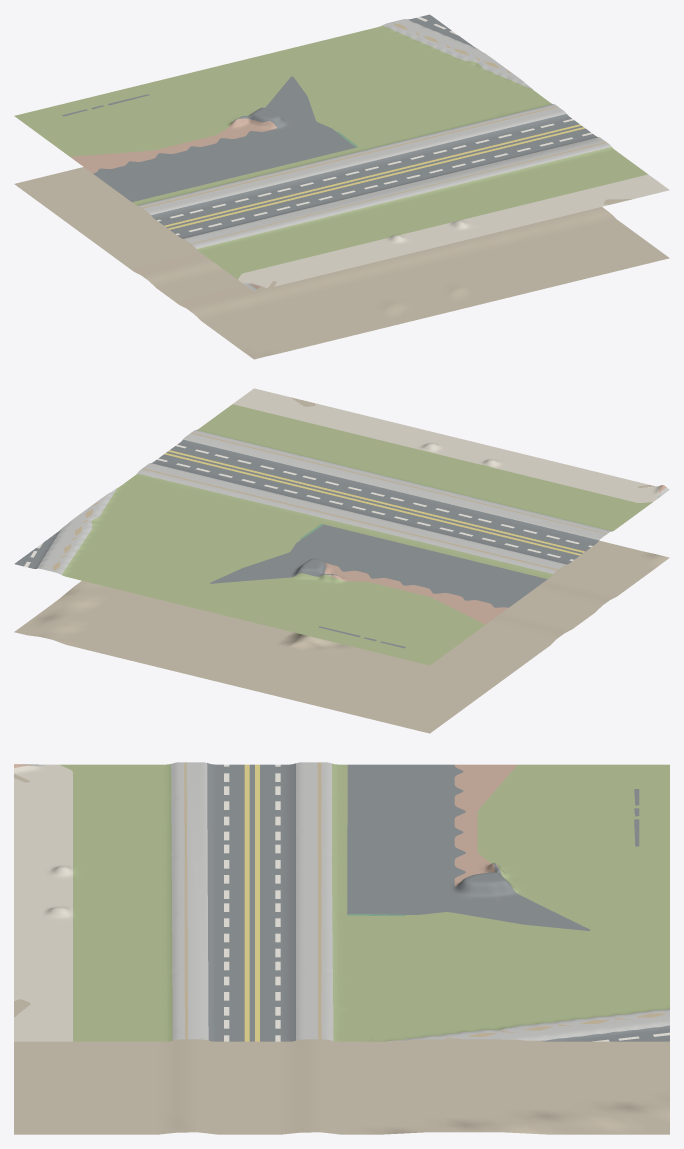
The picture shows the model from 3 angles, top to bottom: view 1: azimuth 30°, elevation 25°; view 2: azimuth 150°, elevation 25°; view 3: azimuth 270°, elevation 25°; orthographic projection. The views are drawn at different scales.
Parts seen in each view (by area): view 1: s_0_-2__grass, s_0_-2__soil, s_0_-2__asphalt, s_0_-2__stone_paving, s_0_-2__paving, s_0_-2__brick_paving, s_0_-2__yellow_marking, s_0_-2__timber_deck, s_0_-2__white_marking; view 2: s_0_-2__grass, s_0_-2__soil, s_0_-2__asphalt, s_0_-2__stone_paving, s_0_-2__paving, s_0_-2__yellow_marking, s_0_-2__brick_paving, s_0_-2__timber_deck, s_0_-2__white_marking; view 3: s_0_-2__grass, s_0_-2__soil, s_0_-2__asphalt, s_0_-2__stone_paving, s_0_-2__paving, s_0_-2__brick_paving, s_0_-2__yellow_marking, s_0_-2__timber_deck, s_0_-2__white_marking.
Boxes of the visible parts, x1=… form: s_0_-2__grass: x1=14, y1=25, x2=647, y2=279; s_0_-2__soil: x1=14, y1=167, x2=669, y2=359; s_0_-2__asphalt: x1=62, y1=14, x2=598, y2=238; s_0_-2__stone_paving: x1=138, y1=19, x2=611, y2=291; s_0_-2__paving: x1=238, y1=174, x2=669, y2=288; s_0_-2__brick_paving: x1=70, y1=118, x2=276, y2=288; s_0_-2__yellow_marking: x1=164, y1=124, x2=585, y2=229; s_0_-2__timber_deck: x1=142, y1=23, x2=606, y2=243; s_0_-2__white_marking: x1=157, y1=17, x2=592, y2=235; s_0_-2__grass: x1=62, y1=404, x2=652, y2=665; s_0_-2__soil: x1=14, y1=397, x2=669, y2=733; s_0_-2__asphalt: x1=15, y1=439, x2=598, y2=648; s_0_-2__stone_paving: x1=37, y1=430, x2=669, y2=574; s_0_-2__paving: x1=233, y1=388, x2=659, y2=502; s_0_-2__yellow_marking: x1=164, y1=450, x2=584, y2=555; s_0_-2__brick_paving: x1=324, y1=485, x2=666, y2=624; s_0_-2__timber_deck: x1=53, y1=432, x2=607, y2=570; s_0_-2__white_marking: x1=24, y1=444, x2=592, y2=567; s_0_-2__grass: x1=59, y1=763, x2=669, y2=1041; s_0_-2__soil: x1=14, y1=773, x2=669, y2=1134; s_0_-2__asphalt: x1=207, y1=763, x2=669, y2=1041; s_0_-2__stone_paving: x1=24, y1=762, x2=669, y2=1040; s_0_-2__paving: x1=14, y1=764, x2=72, y2=1041; s_0_-2__brick_paving: x1=14, y1=764, x2=516, y2=886; s_0_-2__yellow_marking: x1=244, y1=764, x2=669, y2=1041; s_0_-2__timber_deck: x1=184, y1=762, x2=665, y2=1039; s_0_-2__white_marking: x1=224, y1=764, x2=669, y2=1041.
Size of the model in its own units: 128 by 22.01 by 128.
